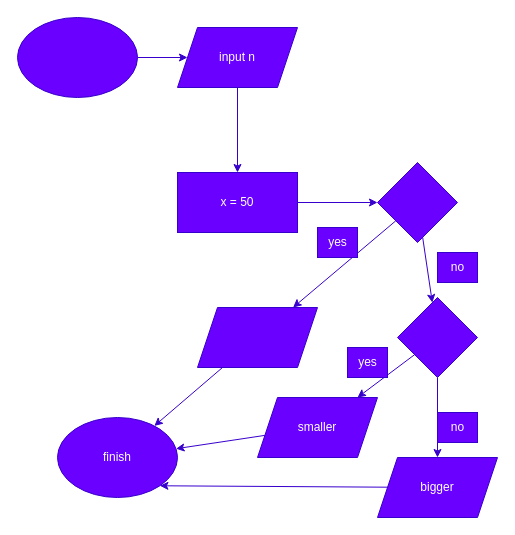
Image size: 515x535. Some labels were removed from this diagram. The shapes that lost their labels are listed below. From the top down, each one's centre as x and y in pixels, then its label:
point (77, 57): start
point (417, 202): if n = x
point (257, 337): you win
point (437, 337): if n > x
